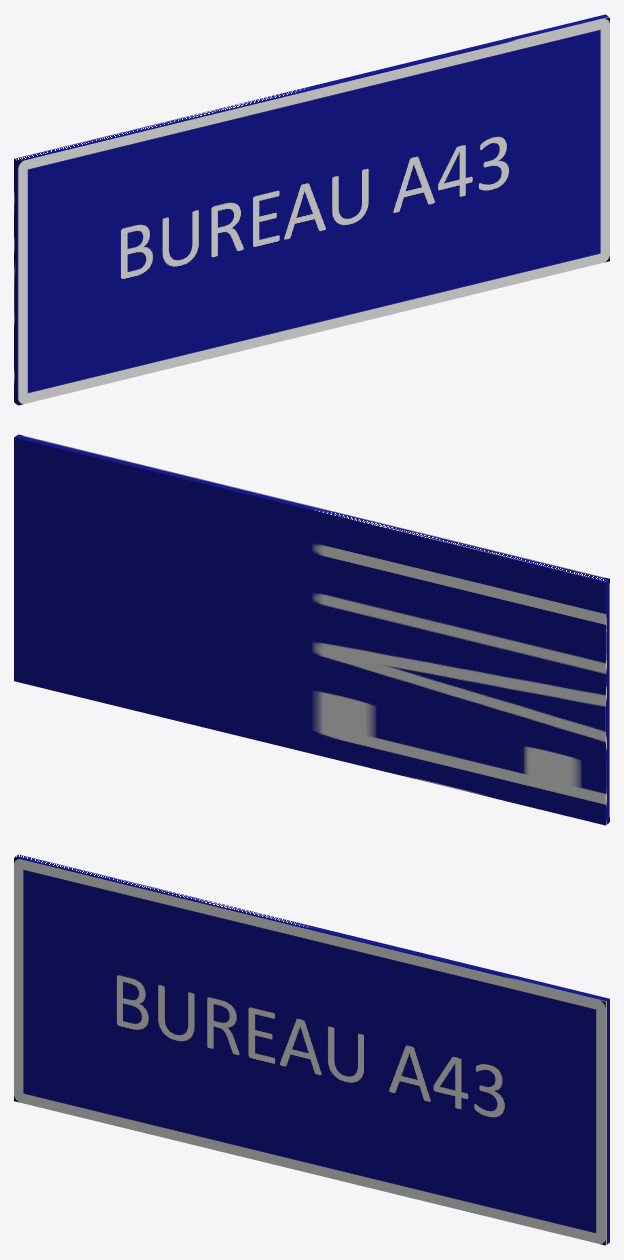
File: Bureau A43.fbx
The picture shows the model from 3 angles, top to bottom: view 1: azimuth 30°, elevation 25°; view 2: azimuth 150°, elevation 25°; view 3: azimuth 330°, elevation 25°; orthographic projection.
Parts seen in each view (by area): view 1: BUREAU A01.018; view 2: BUREAU A01.018; view 3: BUREAU A01.018.
Part boxes in pixels (x1,y1,x2,y2): BUREAU A01.018: (14, 14, 609, 405); BUREAU A01.018: (14, 434, 609, 825); BUREAU A01.018: (14, 854, 609, 1245).
Bounding box in the file's own units: 40.96 × 16.12 × 0.5134.
Materials: 2 (2 with a texture image).
